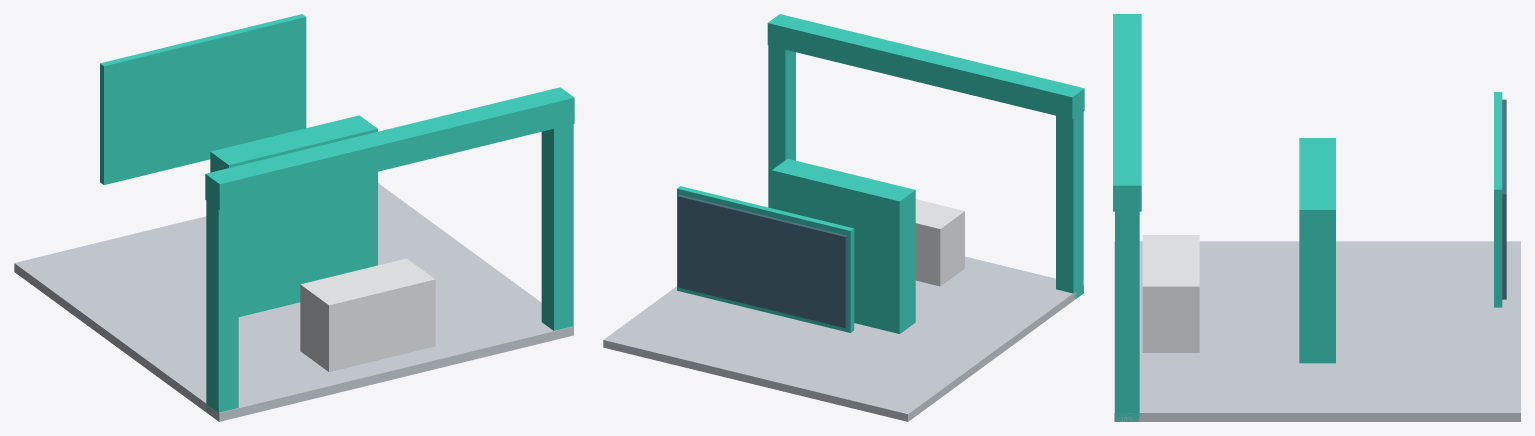
3 views of the same model, side by side, from view 1: azimuth 30°, elevation 25°; view 2: azimuth 150°, elevation 25°; view 3: azimuth 270°, elevation 25° (orthographic). The views are drawn at different scales.
Visible parts, largest first — view 1: Exhibition Booth Concept; view 2: Exhibition Booth Concept; view 3: Exhibition Booth Concept.
Boxes of the visible parts, x1=… form: Exhibition Booth Concept: x1=14, y1=14, x2=574, y2=421; Exhibition Booth Concept: x1=603, y1=14, x2=1084, y2=421; Exhibition Booth Concept: x1=1113, y1=14, x2=1520, y2=421.
Bounding box in the file's own units: 5 × 3.2 × 5.02.
